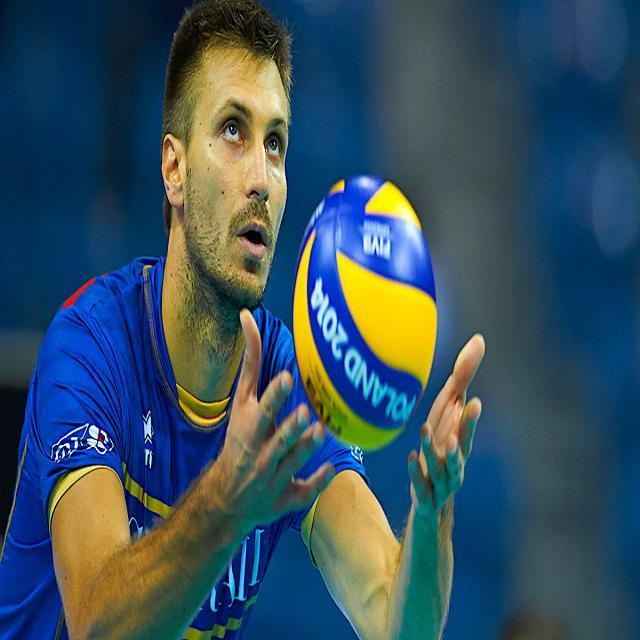volleyball: (292, 175, 438, 448)
